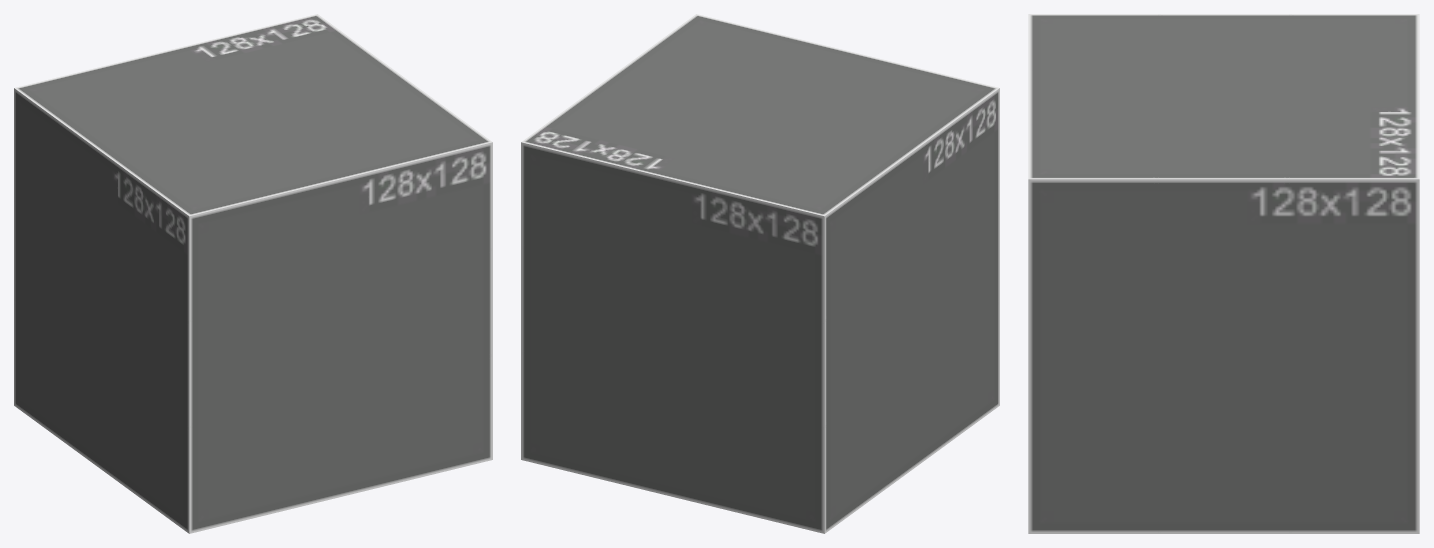
3 renders of one model, left to right at view 1: azimuth 30°, elevation 25°; view 2: azimuth 150°, elevation 25°; view 3: azimuth 270°, elevation 25°, orthographic. The views are drawn at different scales.
Visible parts, largest first — view 1: cube; view 2: cube; view 3: cube.
Part boxes in pixels (bbox=[...]): cube: bbox=[14, 14, 492, 533]; cube: bbox=[521, 14, 999, 533]; cube: bbox=[1028, 14, 1419, 533].
Size of the model in its own units: 1 by 1 by 1.
